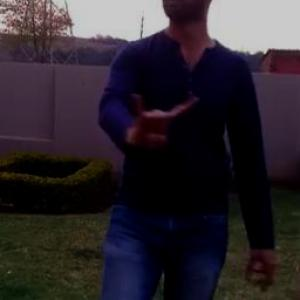takeoff-hand: (123, 78, 202, 163)
